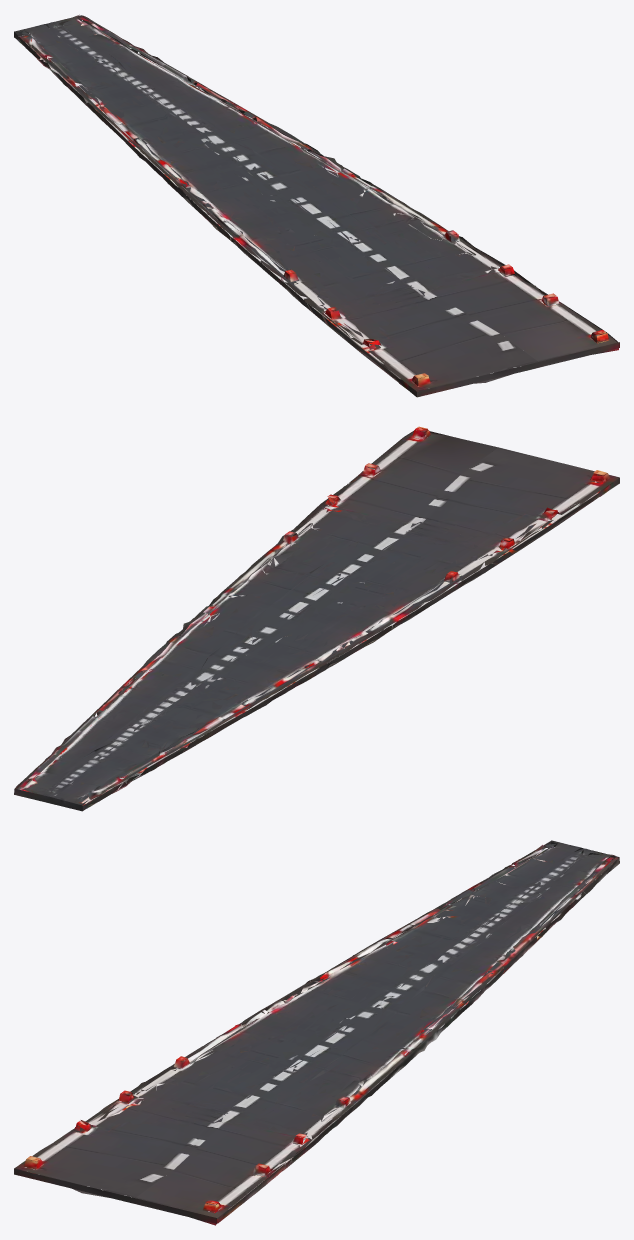
The model's file is runway.glb.
The picture shows the model from 3 angles, top to bottom: view 1: azimuth 30°, elevation 25°; view 2: azimuth 150°, elevation 25°; view 3: azimuth 330°, elevation 25°; orthographic projection.
Visible parts, largest first — view 1: runway; view 2: runway; view 3: runway.
Part boxes in pixels (bbox=[...]): runway: bbox=[14, 14, 619, 397]; runway: bbox=[14, 426, 619, 811]; runway: bbox=[14, 840, 619, 1225].
Size of the model in its own units: 0.2908 by 0.0204 by 1.17.
Materials: 1 (1 with a texture image).
